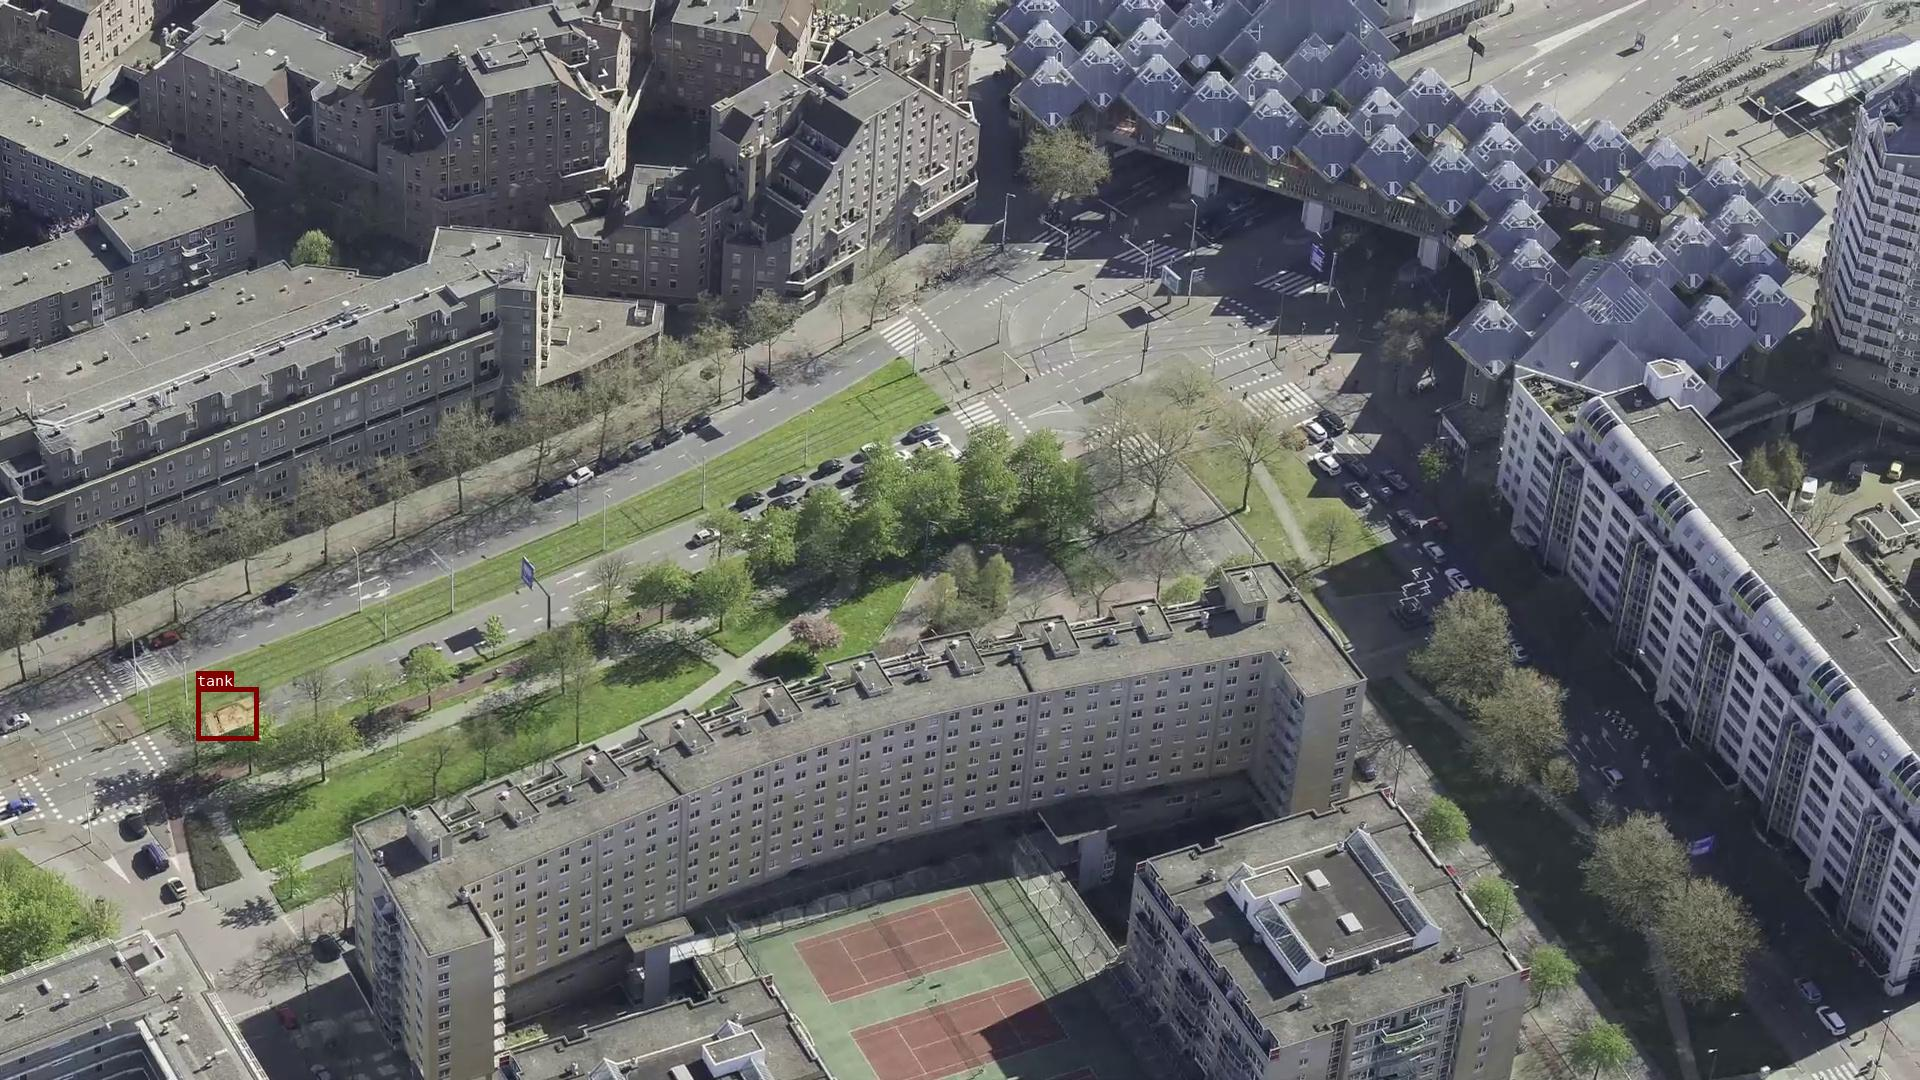tank: (196, 687, 258, 740)
